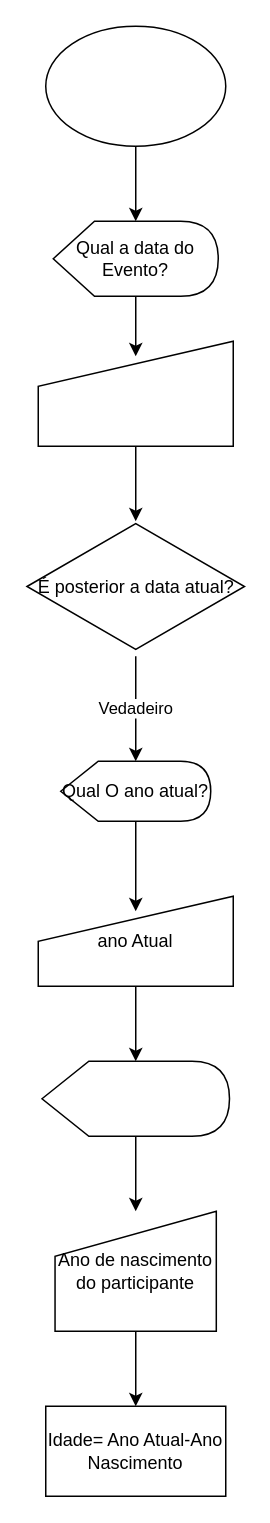
Some shapes in this 270 by 1523 pixel diagram are drawn without their labels. The centre of each missing label's shape, as x and y in pixels:
"Data Informada" belongs at [135,393].
"Inicio" belongs at [135,85].
"Qual o ano de nascimento do participante?" belongs at [135,1098].
